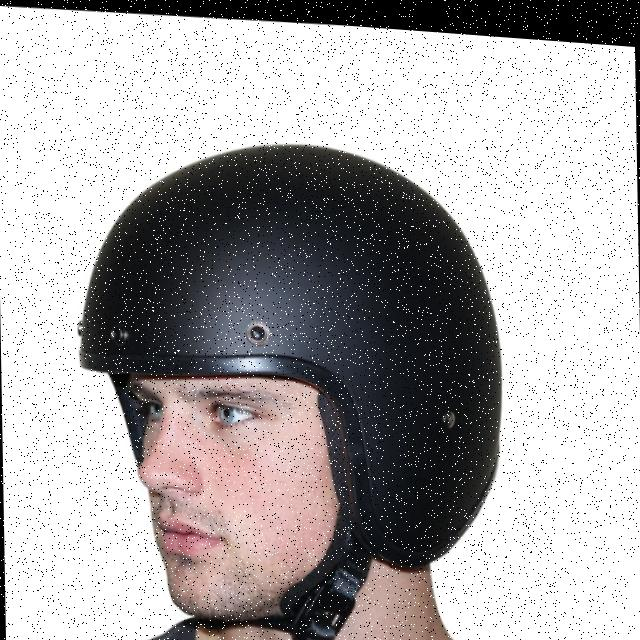helmet: (68, 109, 516, 640)
